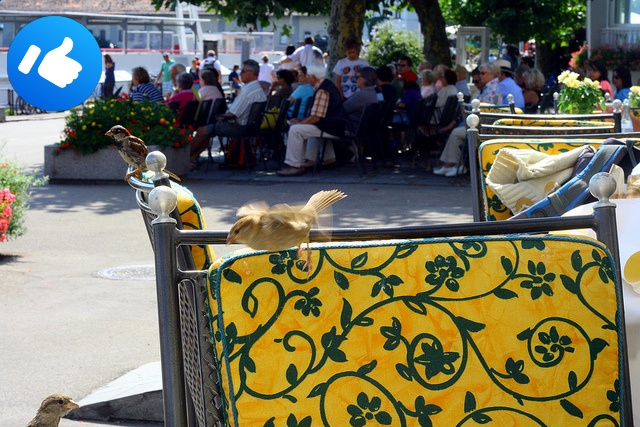like: (7, 16, 102, 111)
